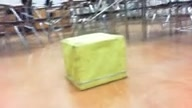cube: (60, 33, 127, 91)
